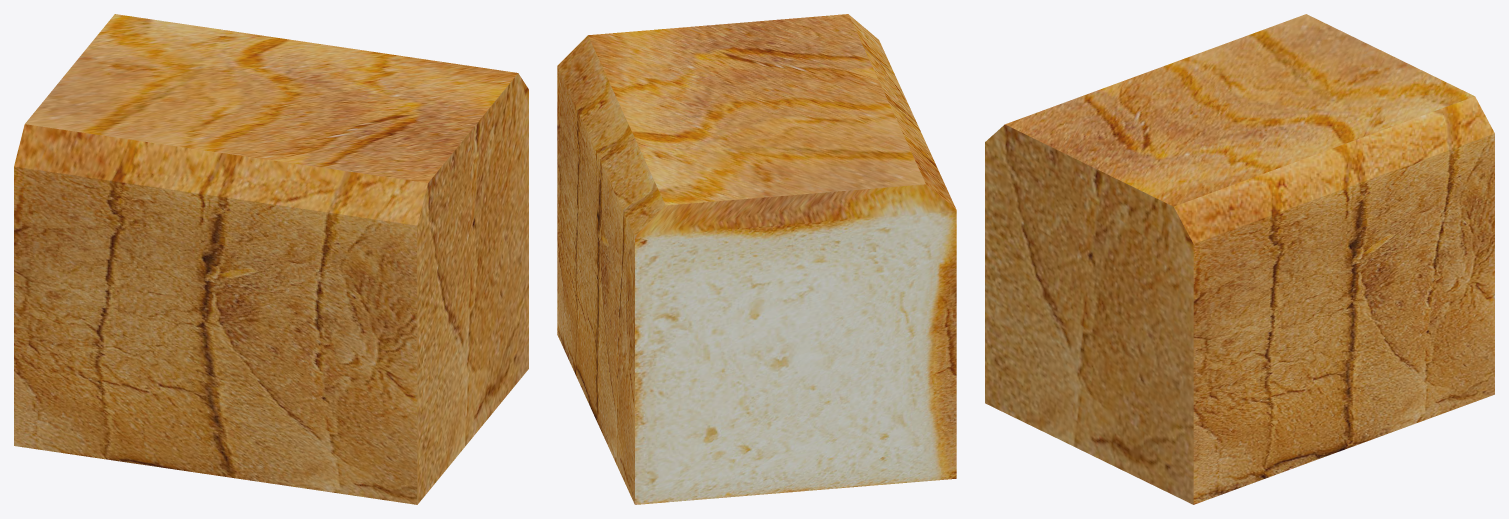
File: bread.gltf
3 renders of one model, left to right at view 1: azimuth 30°, elevation 25°; view 2: azimuth 150°, elevation 25°; view 3: azimuth 270°, elevation 25°, orthographic. The views are drawn at different scales.
Parts seen in each view (by area): view 1: Bread; view 2: Bread; view 3: Bread.
Boxes of the visible parts, x1,y1,x2,y2 form: Bread: (14, 14, 528, 504); Bread: (557, 14, 956, 504); Bread: (985, 14, 1494, 504).
Size of the model in its own units: 1.87 by 1.19 by 1.9.
1 material, 1 textured.
